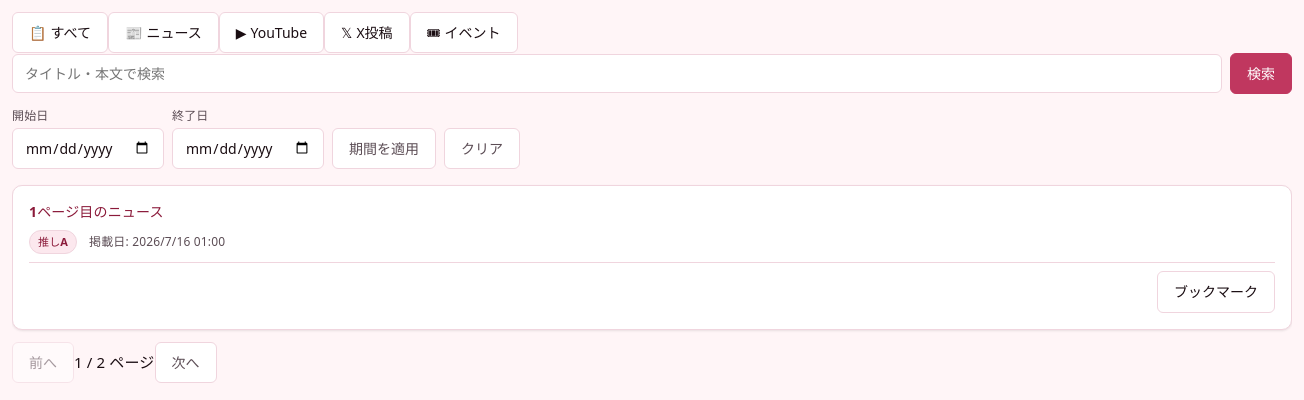
Test case: NewsFeedList › 次のページへ遷移できる
Expected: the link "1ページ目のニュース" is shown, [29, 202, 164, 221]
Click the button with aria-label "次のページ" at [186, 362], box [154, 342, 216, 383]
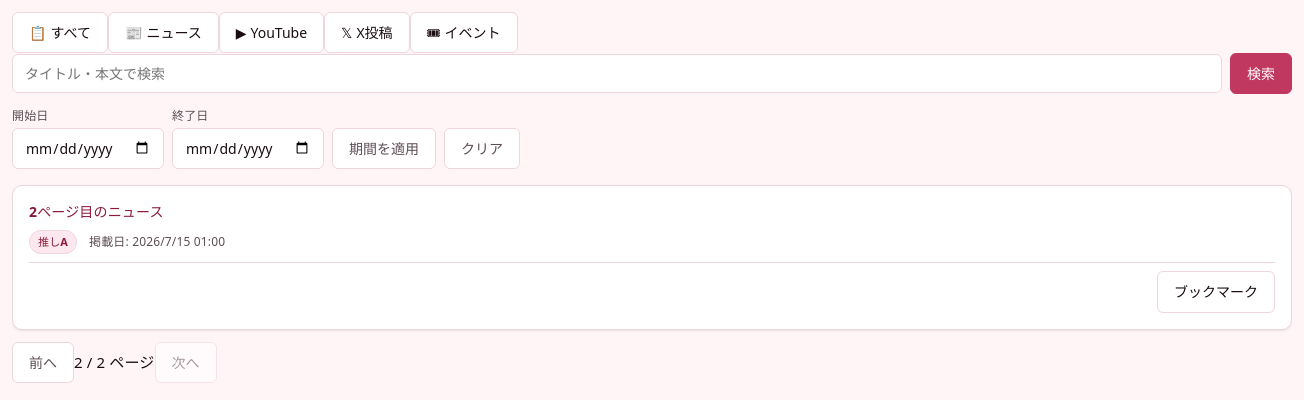
Result: the link "2ページ目のニュース" is shown at [29, 202, 164, 221]
